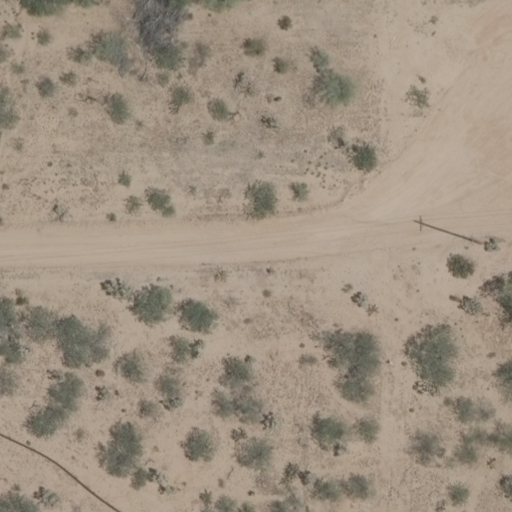DT: (464, 230, 484, 245)
